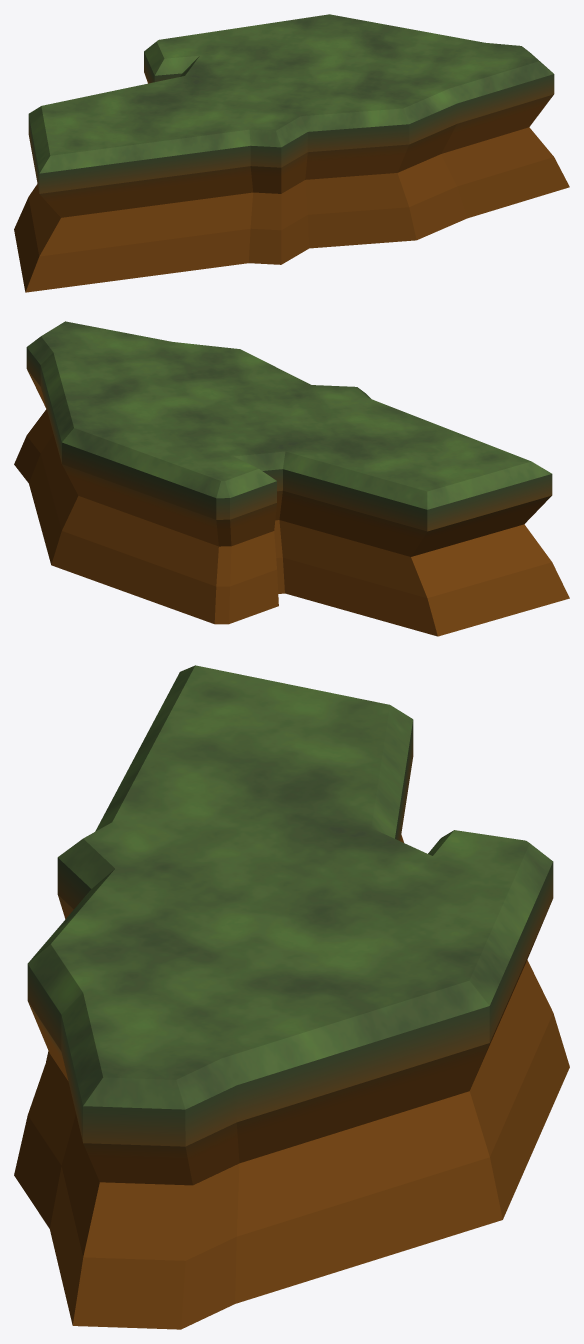
The model's file is T5_Terreno_Lvl1_T.fbx.
The picture shows the model from 3 angles, top to bottom: view 1: azimuth 30°, elevation 25°; view 2: azimuth 150°, elevation 25°; view 3: azimuth 270°, elevation 25°; orthographic projection. The views are drawn at different scales.
Parts seen in each view (by area): view 1: T5_modelosBlockout_nivel1; view 2: T5_modelosBlockout_nivel1; view 3: T5_modelosBlockout_nivel1.
Boxes of the visible parts, left/top/right/bottom form: T5_modelosBlockout_nivel1: left=14, top=14, right=569, bottom=292; T5_modelosBlockout_nivel1: left=14, top=321, right=569, bottom=636; T5_modelosBlockout_nivel1: left=14, top=665, right=569, bottom=1329.
Size of the model in its own units: 8339 by 1919 by 4232.
